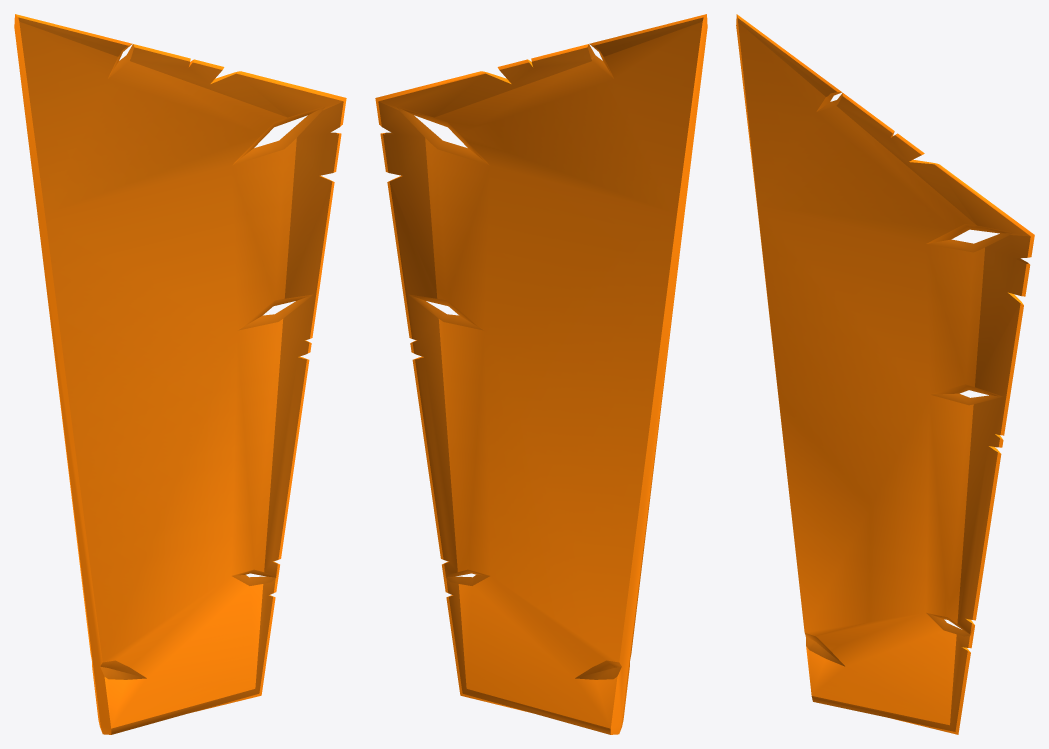
The model's file is bronze_blade_scratched_025.glb.
3 renders of one model, left to right at view 1: azimuth 30°, elevation 25°; view 2: azimuth 150°, elevation 25°; view 3: azimuth 330°, elevation 25°, orthographic. The views are drawn at different scales.
Visible parts, largest first — view 1: bronze_blade_scratched.025; view 2: bronze_blade_scratched.025; view 3: bronze_blade_scratched.025.
Boxes of the visible parts, x1,y1,x2,y2 form: bronze_blade_scratched.025: (14,14,346,734); bronze_blade_scratched.025: (375,14,707,734); bronze_blade_scratched.025: (736,14,1034,734).
Size of the model in its own units: 5.55 by 11.85 by 0.374.
Materials: 1 (1 with a texture image).
